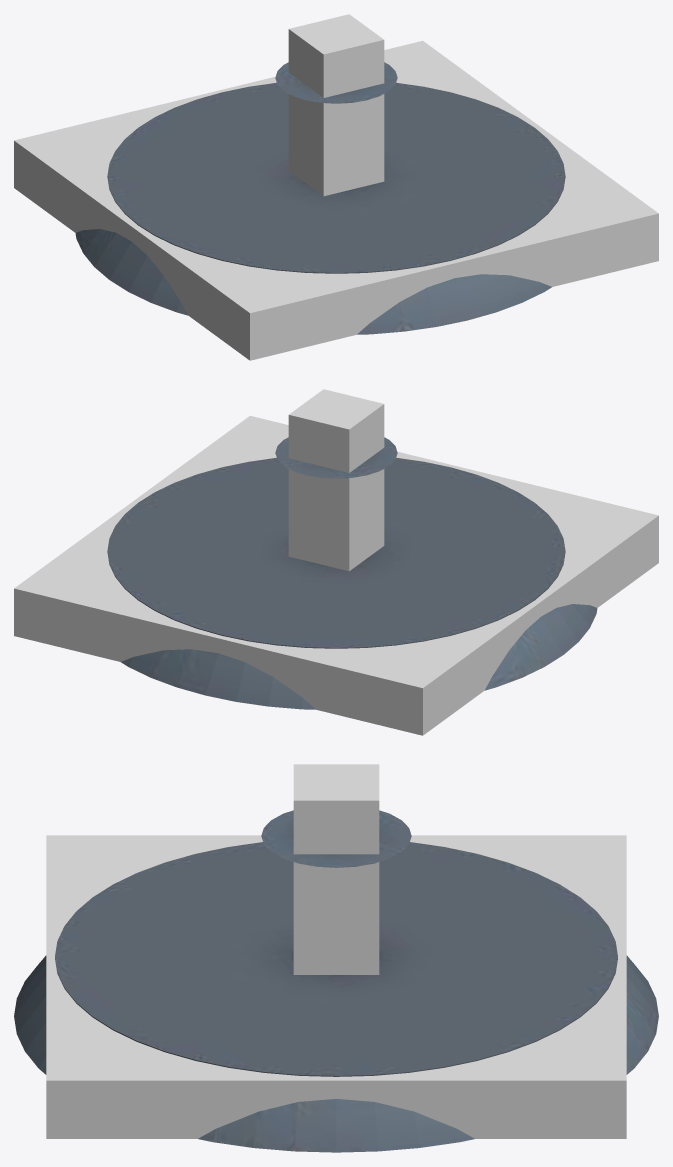
Rendered from fountain.glb.
The picture shows the model from 3 angles, top to bottom: view 1: azimuth 30°, elevation 25°; view 2: azimuth 150°, elevation 25°; view 3: azimuth 270°, elevation 25°; orthographic projection. The views are drawn at different scales.
Visible parts, largest first — view 1: Fountain, COL_Basin, COL_Pillar; view 2: Fountain, COL_Basin, COL_Pillar; view 3: Fountain, COL_Basin, COL_Pillar.
Boxes of the visible parts, x1=… form: Fountain: x1=75, y1=62, x2=565, y2=334; COL_Basin: x1=14, y1=40, x2=658, y2=360; COL_Pillar: x1=288, y1=14, x2=384, y2=196; Fountain: x1=107, y1=437, x2=597, y2=709; COL_Basin: x1=14, y1=415, x2=658, y2=735; COL_Pillar: x1=288, y1=389, x2=384, y2=571; Fountain: x1=14, y1=810, x2=658, y2=1152; COL_Basin: x1=46, y1=835, x2=626, y2=1138; COL_Pillar: x1=293, y1=764, x2=379, y2=974.
Bounding box in the file's own units: 6 × 2.4 × 6.
4 materials, 3 textured.
